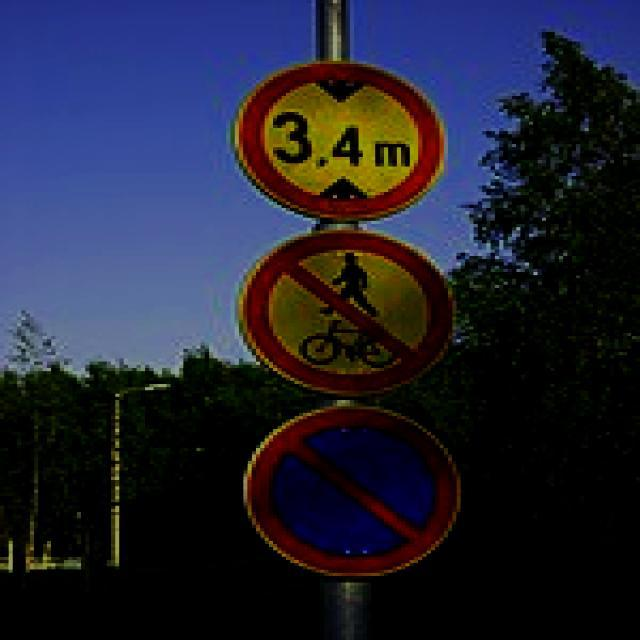Traffic sign: (223, 52, 468, 588)
